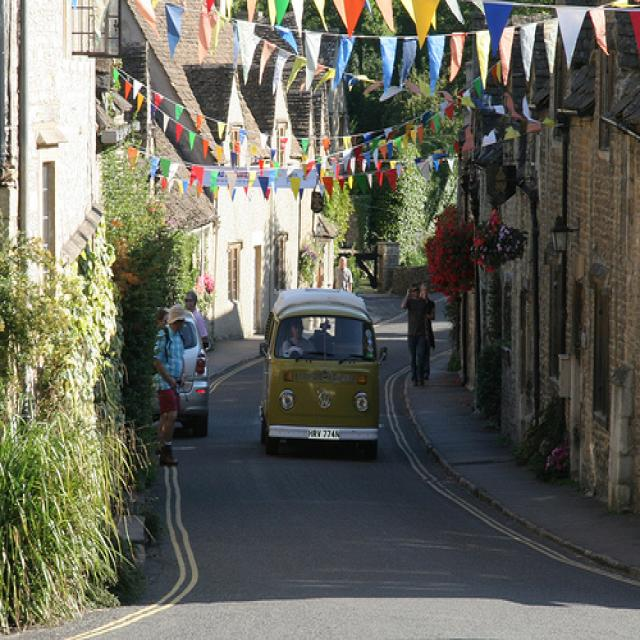light_vehicle: (170, 304, 211, 437)
